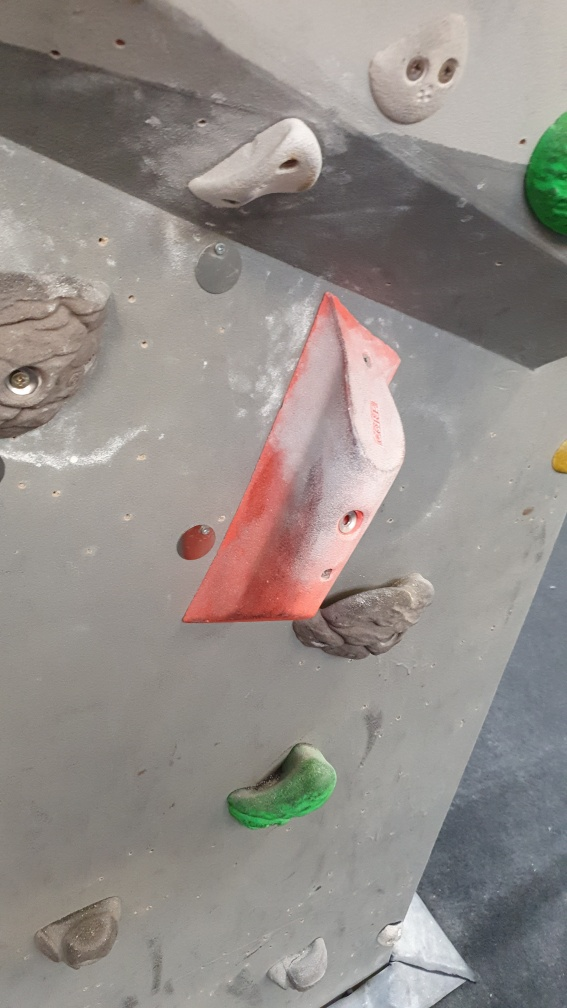Hand Start: (192, 236, 252, 300), (175, 518, 220, 566)
Jug: (289, 566, 442, 663), (221, 739, 339, 830), (265, 935, 335, 997)
Pinch: (176, 292, 409, 630)
